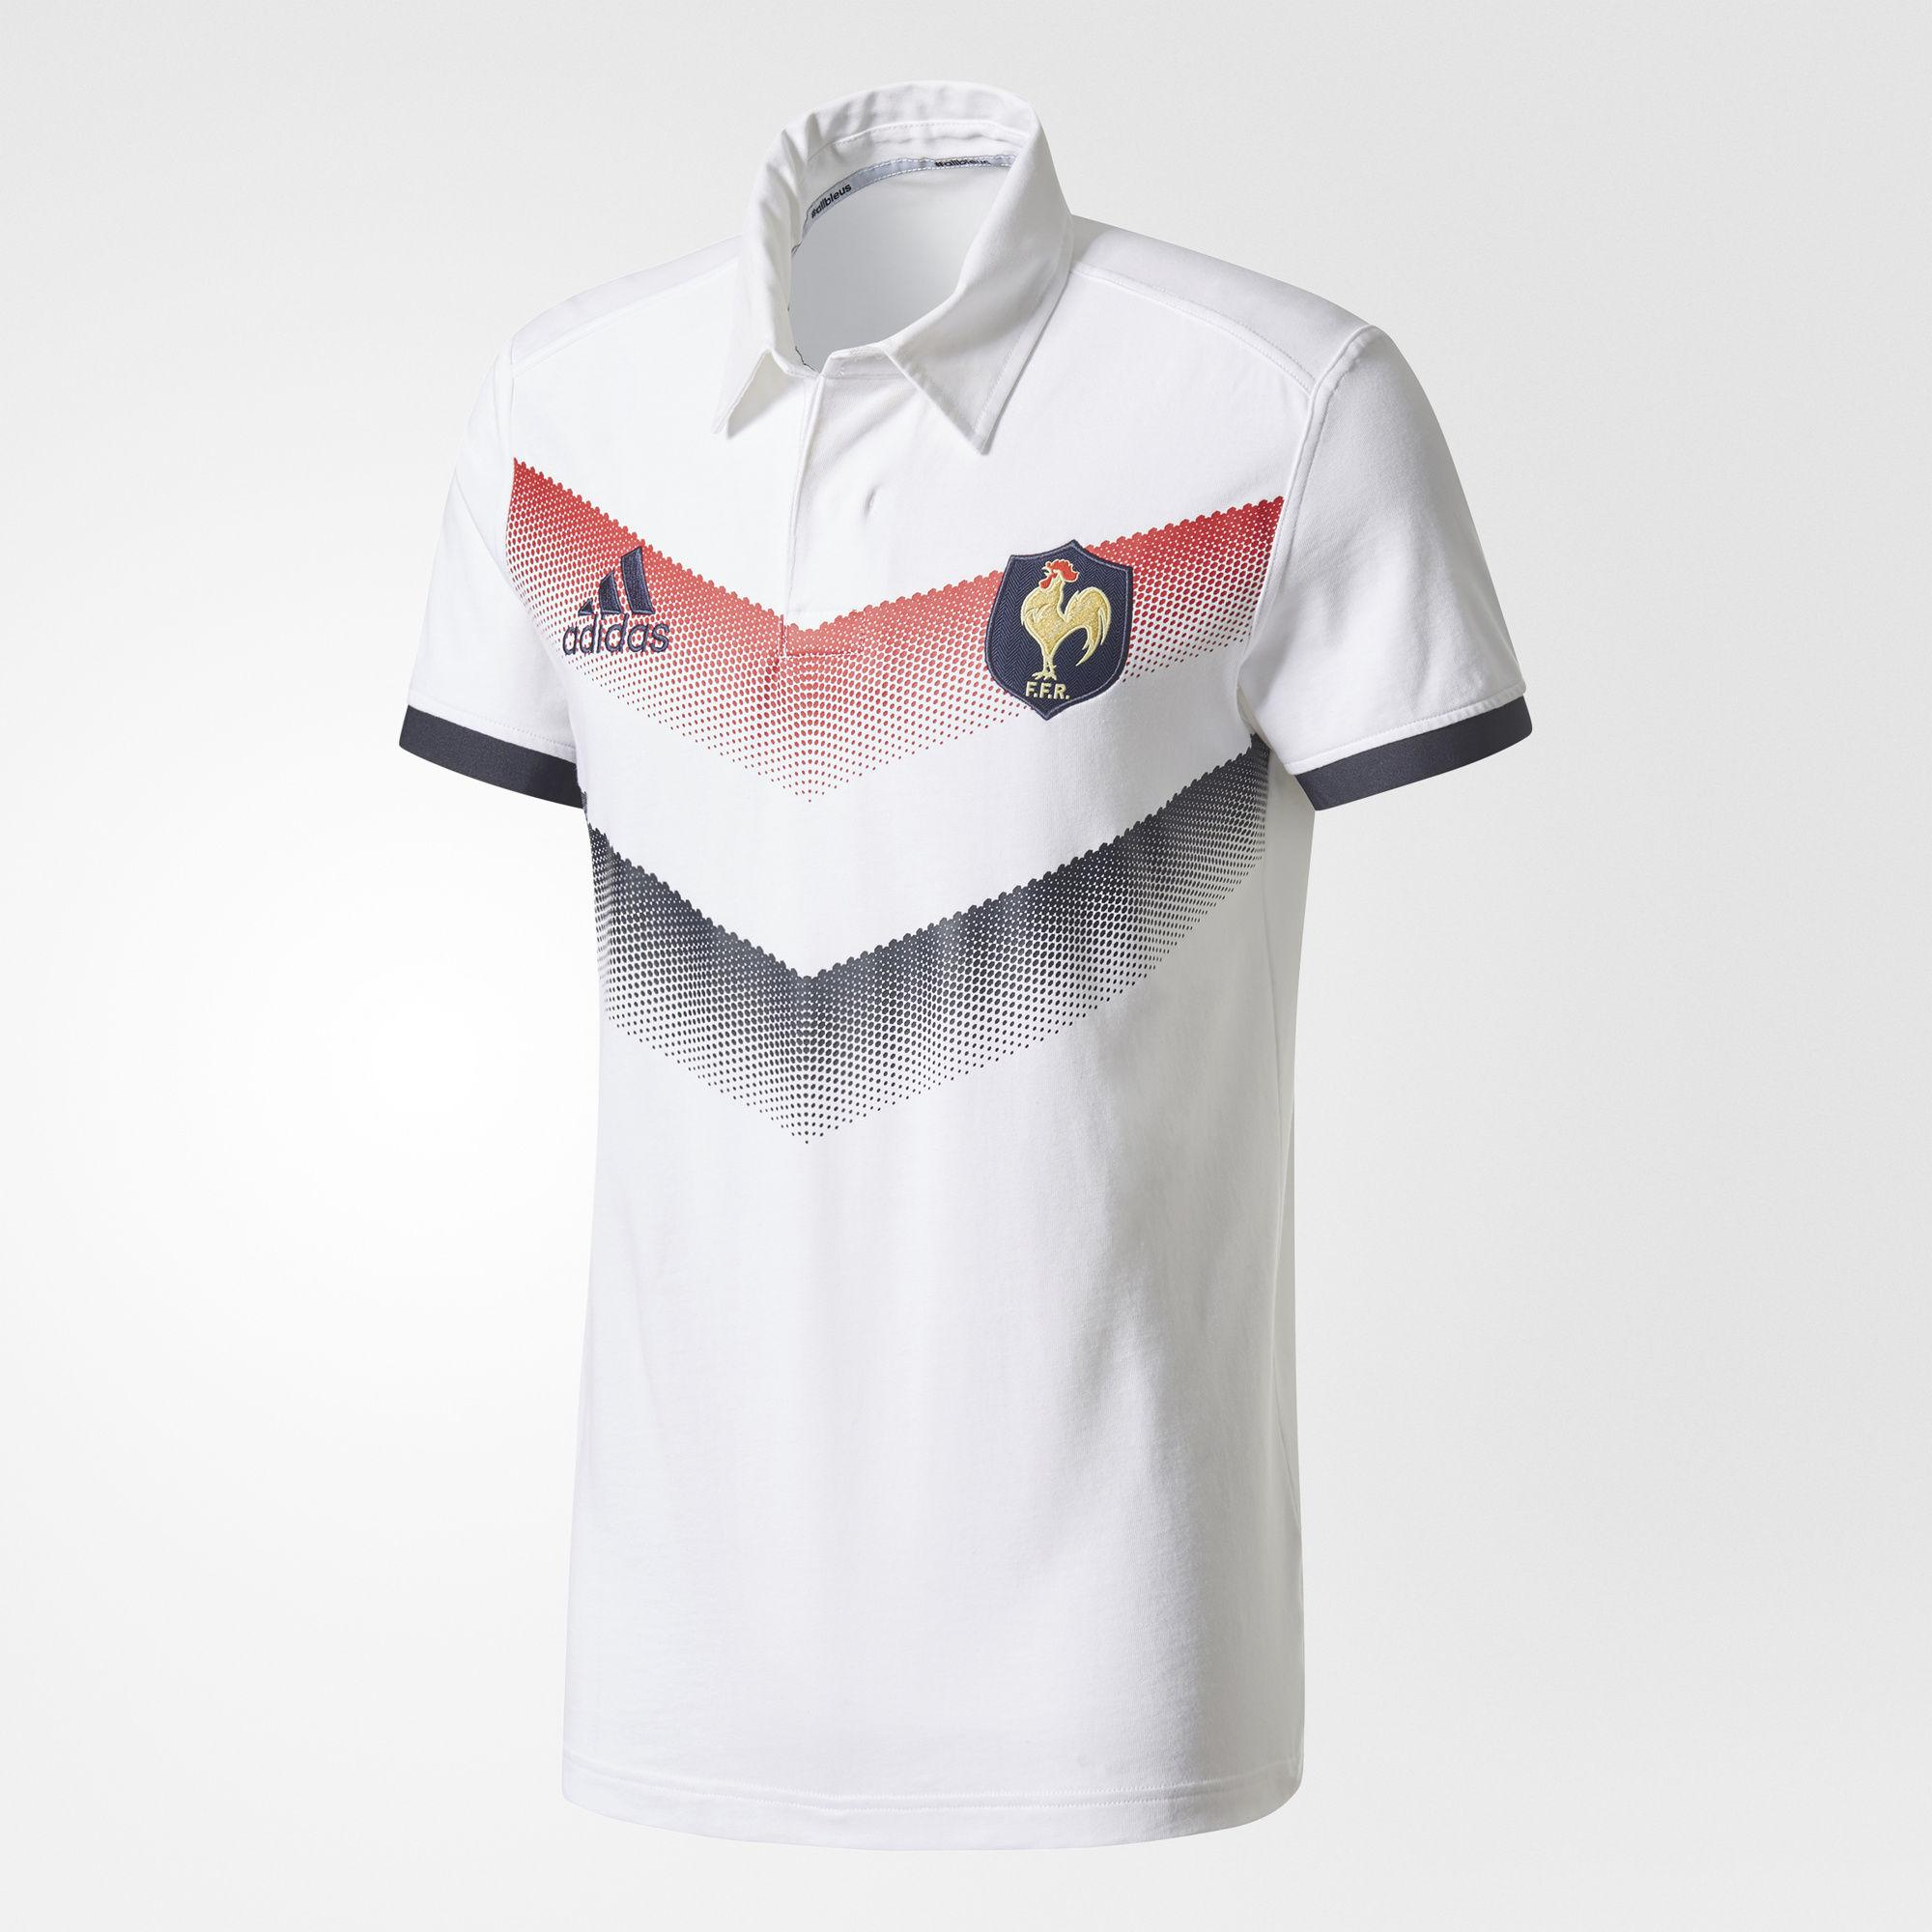teeshirt: (341, 78, 1612, 1914)
